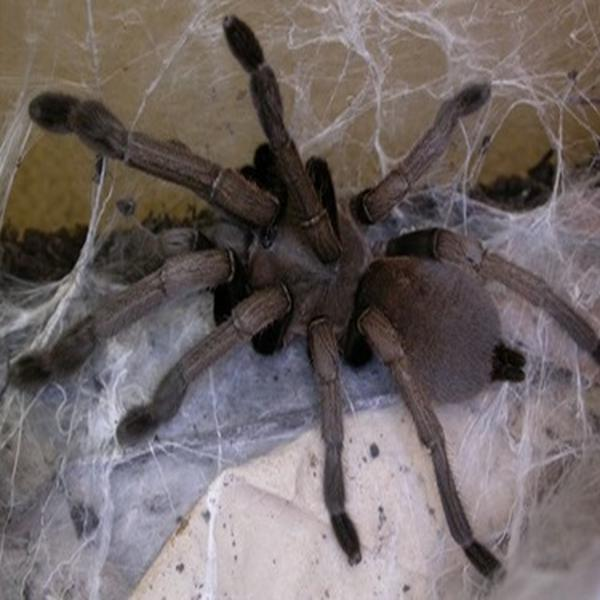Tarantula Spider: (38, 28, 549, 567)
